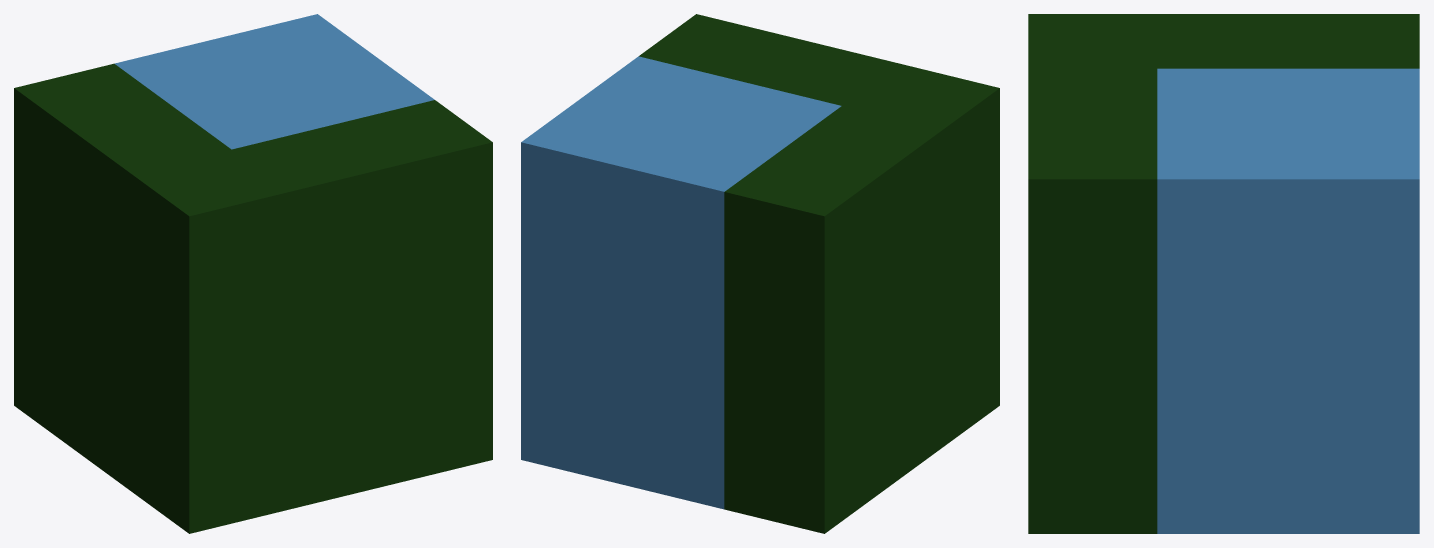
Rendered from Import1.fbx.
3 views of the same model, side by side, from view 1: azimuth 30°, elevation 25°; view 2: azimuth 150°, elevation 25°; view 3: azimuth 270°, elevation 25° (orthographic). The views are drawn at different scales.
Parts seen in each view (by area): view 1: Cube.005; view 2: Cube.005; view 3: Cube.005.
Boxes of the visible parts, bbox=[...] form: Cube.005: bbox=[14, 14, 492, 533]; Cube.005: bbox=[521, 14, 999, 533]; Cube.005: bbox=[1028, 14, 1419, 533].
Bounding box in the file's own units: 100 × 100 × 100.
